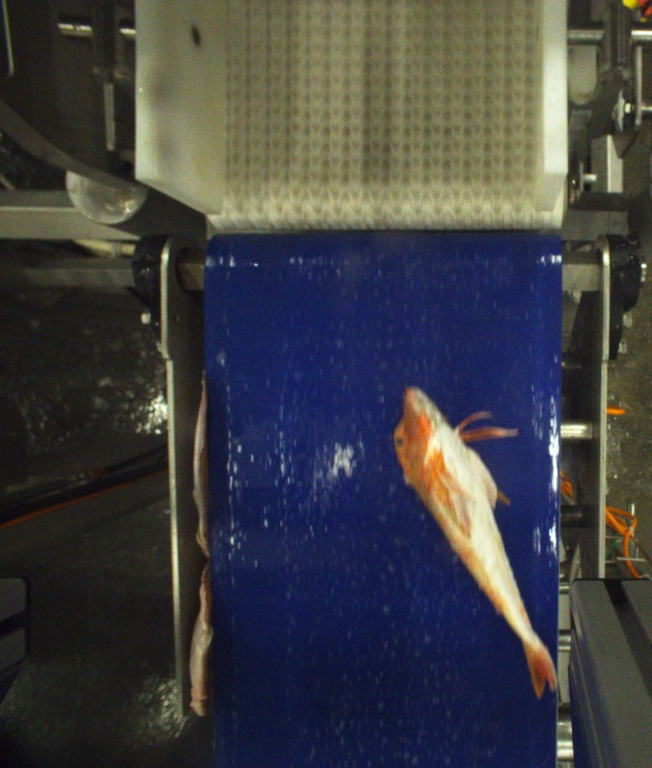GUU: (393, 381, 559, 695)
